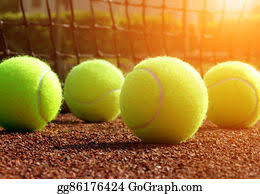tennis_ball: (120, 55, 208, 147), (1, 54, 65, 133), (63, 58, 127, 125), (199, 61, 260, 130)
